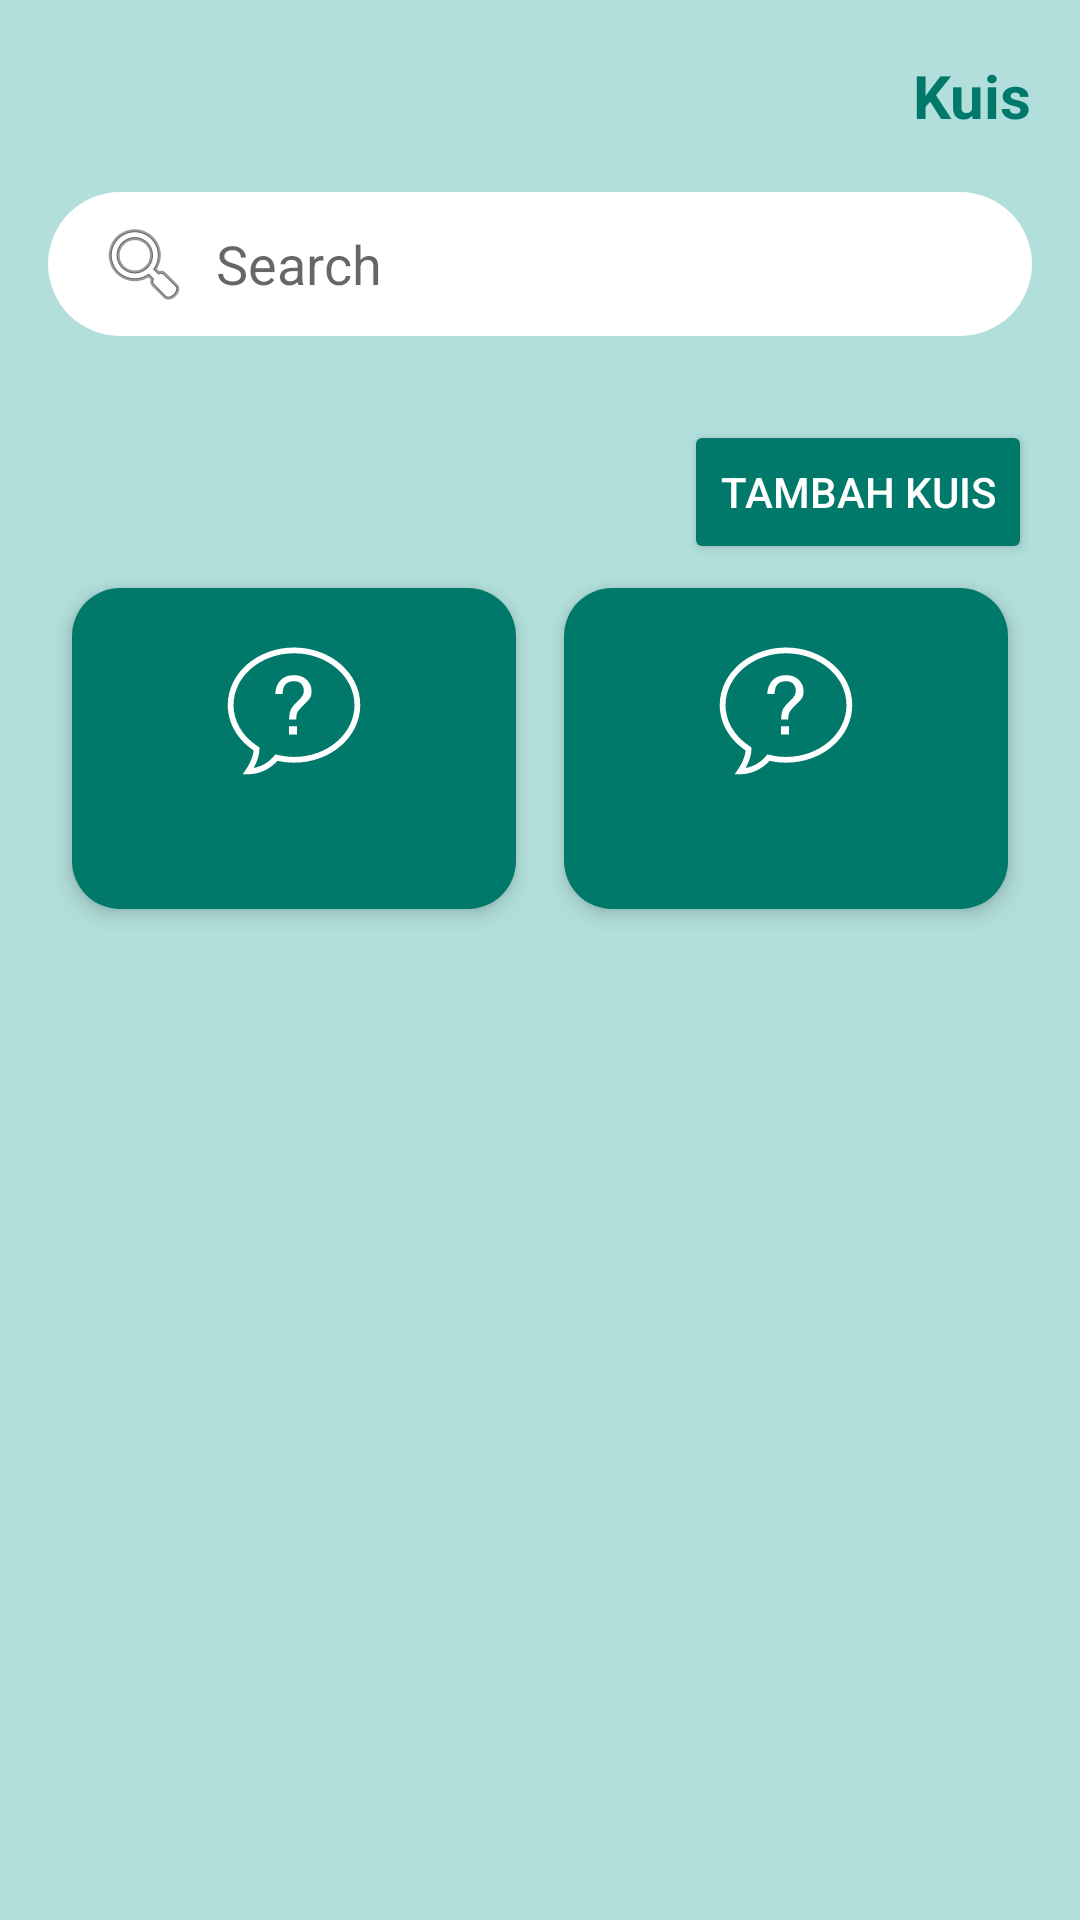

Icons on this 1080px×1920px Android screen, each with its box as (x1, y1, x2, y2):
question: (227, 647, 361, 775), (719, 647, 853, 775)
